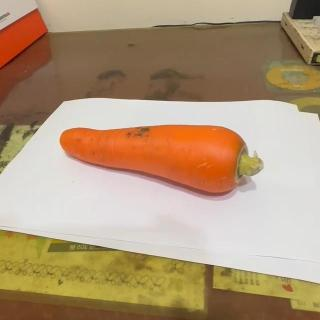carrot: (57, 122, 268, 194)
